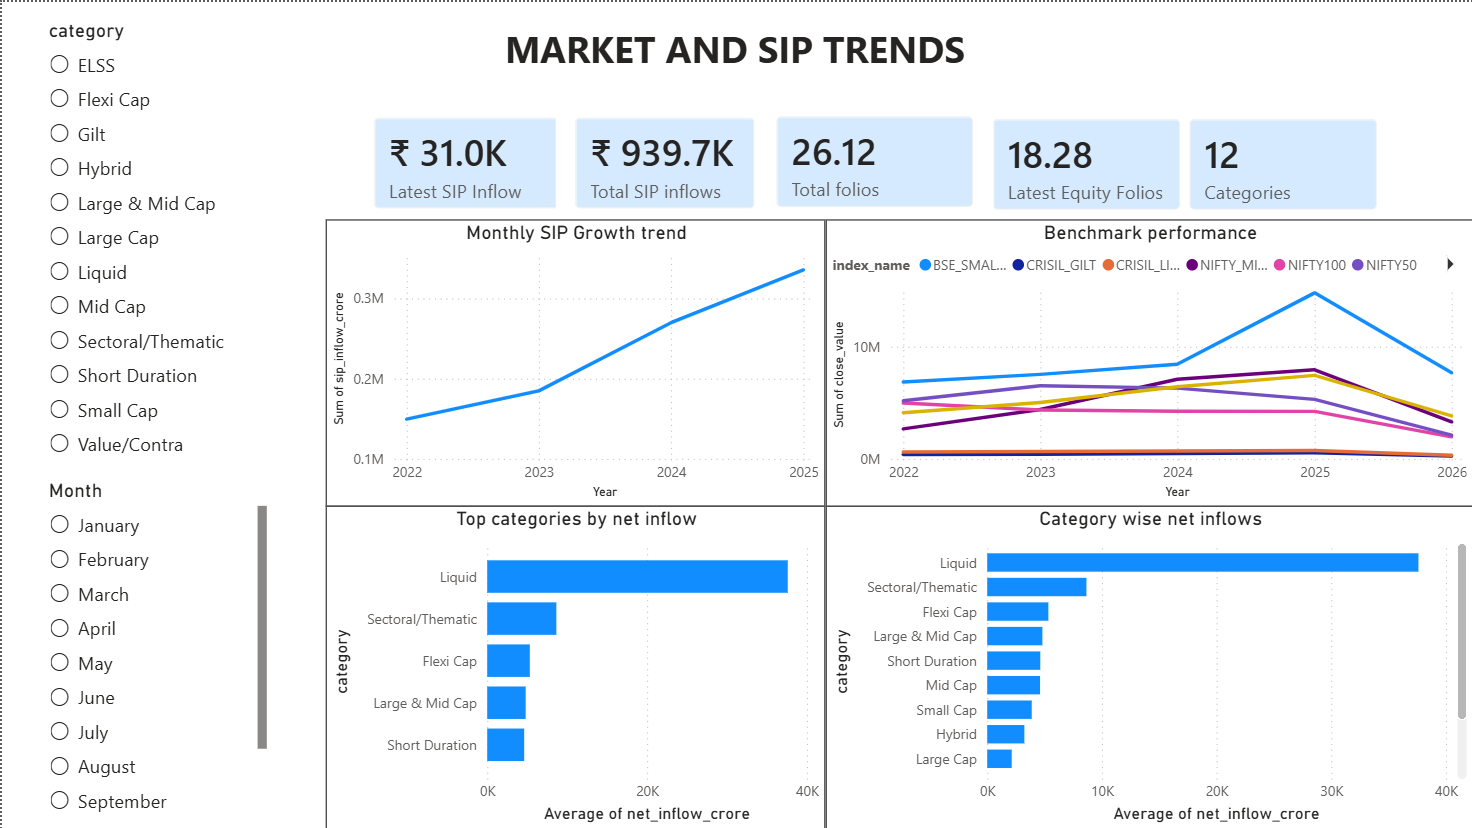

Layout of this report page (visuals, bound fields, positions):
{"tool":"powerbi","page":{"name":"Market and SIP trends","canvas":[1280,720],"ordinal":3},"visuals":[{"type":"cardVisual","fields":{"Data":["clean_aum.Latest SIP Inflow"]},"box":[306,83.5,200,114],"z":0},{"type":"cardVisual","fields":{"Data":["clean_aum.Total SIP inflows"]},"box":[481.4,83.7,190.7,114],"z":1000},{"type":"cardVisual","fields":{"Data":["clean_aum.Latest Equity Folios","clean_aum.Categories"]},"box":[844.3,84.3,368.5,113.2],"z":2000},{"type":"cardVisual","fields":{"Data":["clean_aum.Total folios"]},"box":[657,82.6,205.8,114],"z":3000},{"type":"textbox","box":[329.1,14,607,62.8],"z":4000},{"type":"lineChart","title":"Monthly SIP Growth trend","fields":{"Category":["clean_sip_inflows.month.Variation.Date Hierarchy.Year","clean_sip_inflows.month.Variation.Date Hierarchy.Quarter","clean_sip_inflows.month.Variation.Date Hierarchy.Month","clean_sip_inflows.month.Variation.Date Hierarchy.Day"],"Y":["Sum(clean_sip_inflows.sip_inflow_crore)"]},"box":[281.8,189.1,434.8,249.3],"z":10001},{"type":"clusteredBarChart","title":"Category wise net inflows","fields":{"Category":["clean_category_inflows.category"],"Y":["Avg(clean_category_inflows.net_inflow_crore)"]},"box":[716.6,438.4,563.6,281.8],"z":10002},{"type":"clusteredBarChart","title":"Top categories by net inflow ","fields":{"Category":["clean_category_inflows.category"],"Y":["Avg(clean_category_inflows.net_inflow_crore)"]},"box":[281.8,438.4,434.8,281.8],"z":10003},{"type":"lineChart","title":"Benchmark performance","fields":{"Category":["clean_benchmark.date.Variation.Date Hierarchy.Year","clean_benchmark.date.Variation.Date Hierarchy.Quarter","clean_benchmark.date.Variation.Date Hierarchy.Month","clean_benchmark.date.Variation.Date Hierarchy.Day"],"Y":["Sum(clean_benchmark.close_value)"],"Series":["clean_benchmark.index_name"]},"box":[716.6,189.1,563.6,249.3],"z":10004},{"type":"listSlicer","fields":{"Values":["clean_category_inflows.category"]},"box":[36.1,14.5,199.9,399.9],"z":10005},{"type":"listSlicer","fields":{"Values":["clean_category_inflows.month.Variation.Date Hierarchy.Month"]},"box":[36.1,414.3,199.9,305.9],"z":10006}]}

Visuals, with their boxes on the page's 1280x720 design canvas (x1, y1, x2, y2). These are canvas units, not pixel positions in the 1472x828 screenshot, which may show the page scaled, cropped or inside an application window:
cardVisual - clean_aum.Latest SIP Inflow: crop(306, 84, 506, 198)
cardVisual - clean_aum.Total SIP inflows: crop(481, 84, 672, 198)
cardVisual - clean_aum.Latest Equity Folios x clean_aum.Categories: crop(844, 84, 1213, 198)
cardVisual - clean_aum.Total folios: crop(657, 83, 863, 197)
textbox: crop(329, 14, 936, 77)
"Monthly SIP Growth trend" lineChart: crop(282, 189, 717, 438)
"Category wise net inflows" clusteredBarChart: crop(717, 438, 1280, 720)
"Top categories by net inflow " clusteredBarChart: crop(282, 438, 717, 720)
"Benchmark performance" lineChart: crop(717, 189, 1280, 438)
listSlicer - clean_category_inflows.category: crop(36, 14, 236, 414)
listSlicer - clean_category_inflows.month.Variation.Date Hierarchy.Month: crop(36, 414, 236, 720)
